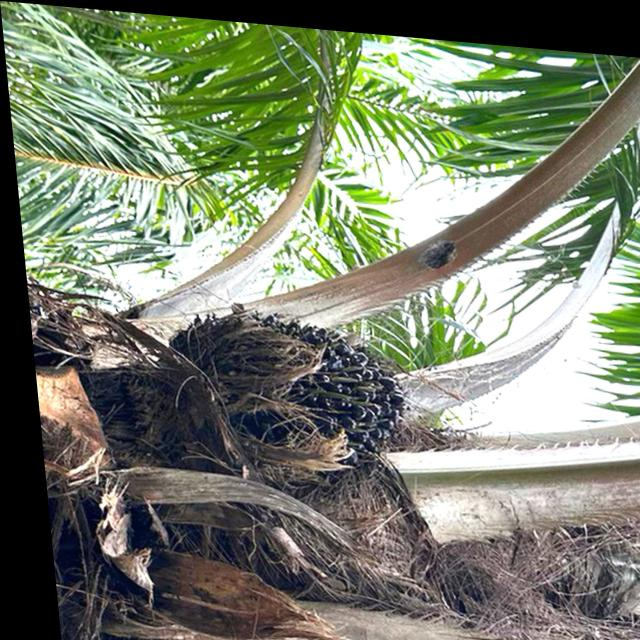unripe: (150, 289, 412, 484)
